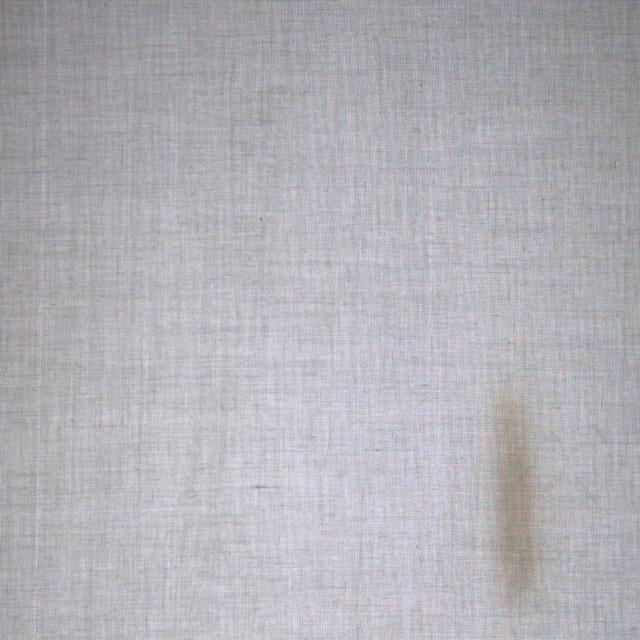dirty: (495, 418, 535, 600)
